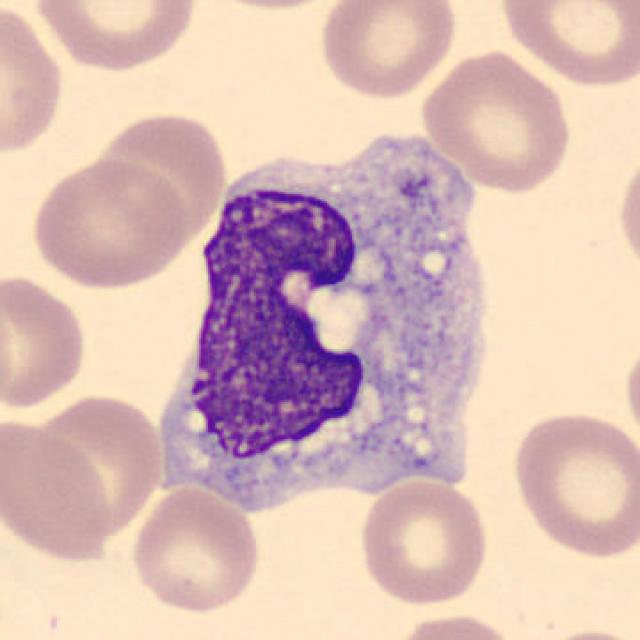Monocyte: (156, 122, 514, 529)
RBC: (414, 46, 576, 196), (27, 155, 192, 291), (507, 406, 638, 560), (89, 105, 230, 248), (126, 482, 265, 616), (354, 474, 492, 608), (2, 414, 114, 562), (314, 0, 460, 100), (0, 270, 91, 414), (28, 0, 201, 74), (496, 0, 638, 90), (0, 0, 68, 162), (387, 610, 521, 640), (613, 142, 640, 286), (190, 0, 350, 14), (622, 335, 640, 453), (526, 624, 638, 640)
